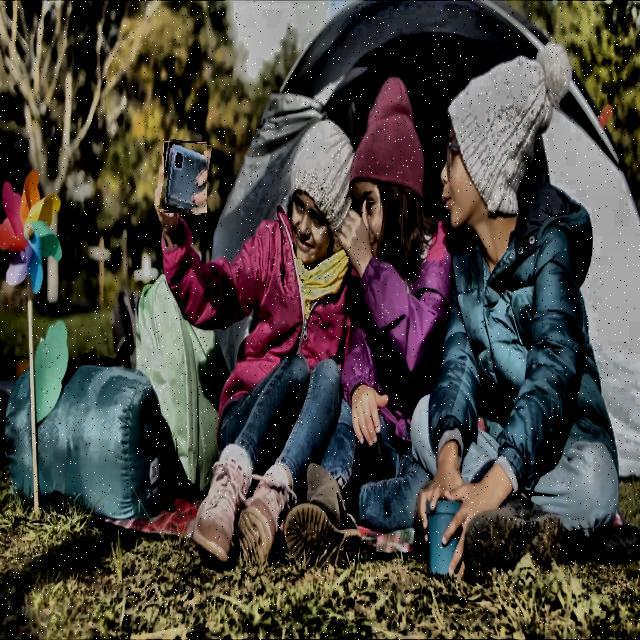Phone: (160, 140, 210, 215)
